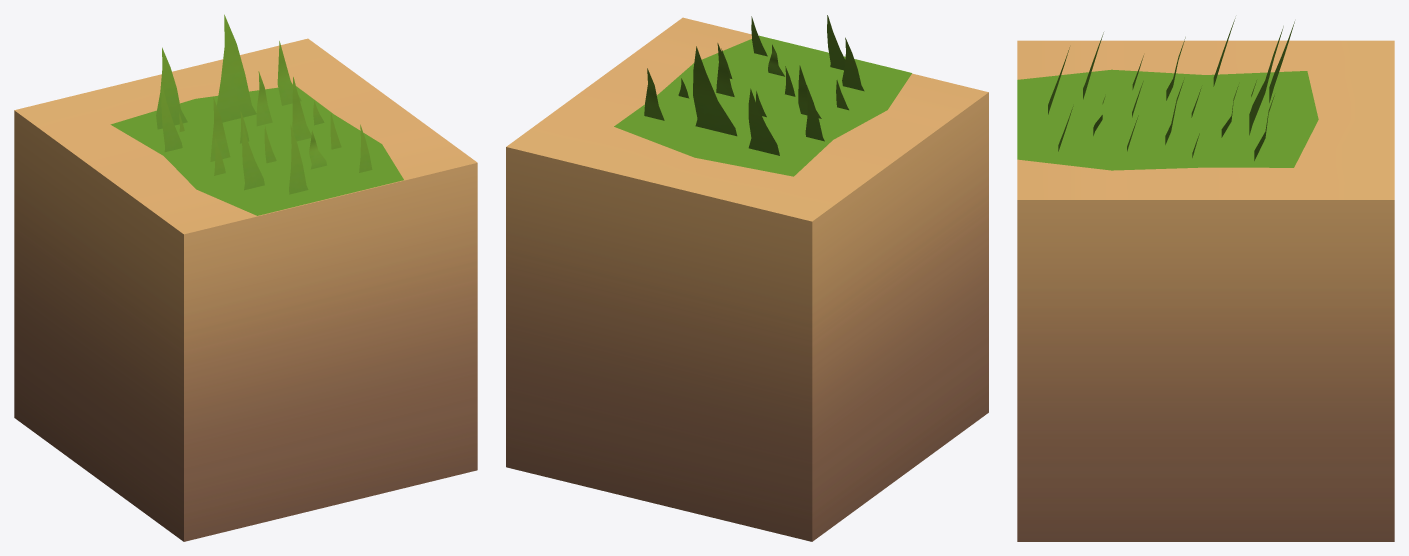
File: threesideb l tile.fbx
3 views of the same model, side by side, from view 1: azimuth 30°, elevation 25°; view 2: azimuth 150°, elevation 25°; view 3: azimuth 270°, elevation 25° (orthographic). The views are drawn at different scales.
Visible parts, largest first — view 1: thsideb_l_ground, thsideb_l, thsideb_l_grass; view 2: thsideb_l_ground, thsideb_l, thsideb_l_grass; view 3: thsideb_l_ground, thsideb_l, thsideb_l_grass.
Part boxes in pixels (x1,y1,x2,y2): thsideb_l_ground: (14, 38, 477, 541); thsideb_l: (110, 86, 403, 215); thsideb_l_grass: (156, 14, 372, 194); thsideb_l_ground: (506, 17, 988, 541); thsideb_l: (614, 35, 911, 176); thsideb_l_grass: (644, 15, 864, 155); thsideb_l_ground: (1017, 40, 1394, 541); thsideb_l: (1017, 69, 1318, 170); thsideb_l_grass: (1048, 18, 1294, 160).
Size of the model in its own units: 10 by 13.03 by 10.
